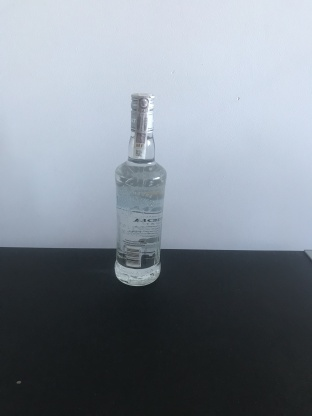nakretka: (128, 88, 156, 136)
